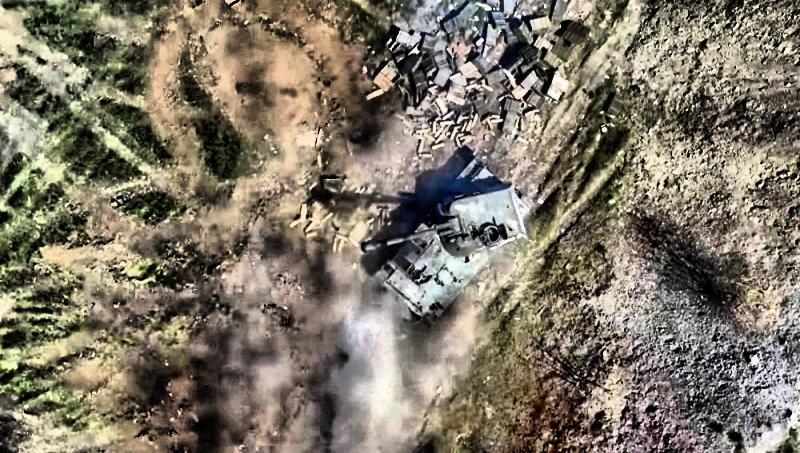military-vehicle: (361, 156, 523, 320)
